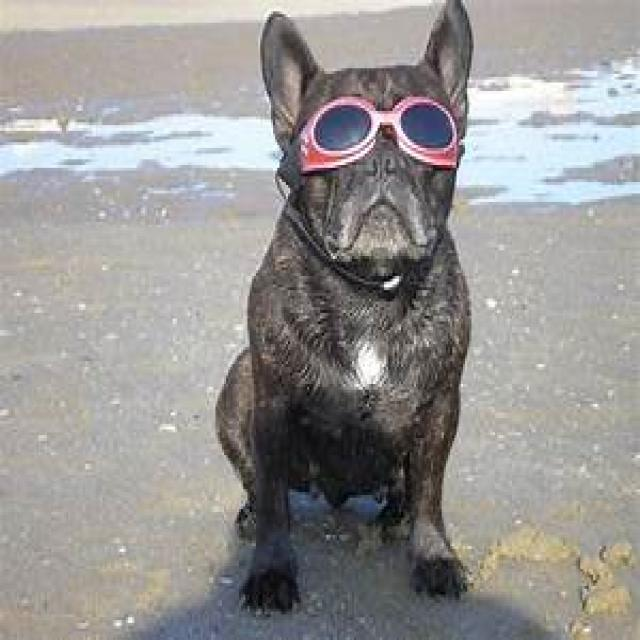dog: (215, 0, 474, 614)
